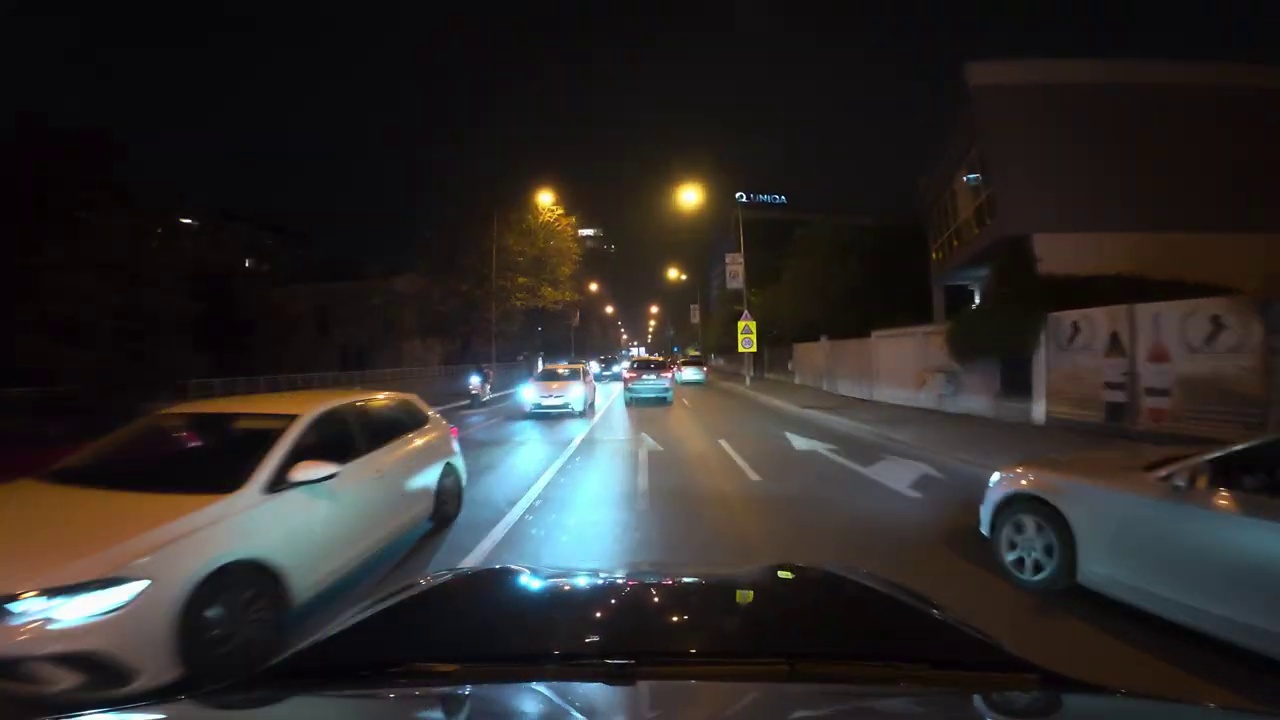acesa: (671, 180, 707, 215), (531, 186, 562, 217), (662, 264, 686, 286)
